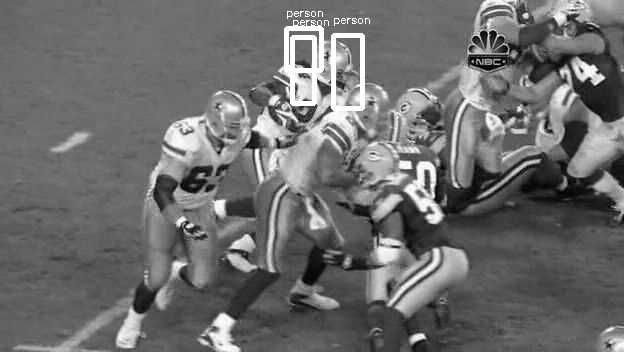person: (320, 39, 355, 83), (319, 39, 354, 83), (321, 39, 356, 83), (320, 38, 355, 82), (320, 40, 355, 84)
target_negative: (217, 237, 399, 325), (545, 48, 594, 185), (68, 293, 226, 327), (456, 199, 527, 243), (6, 208, 154, 222)
